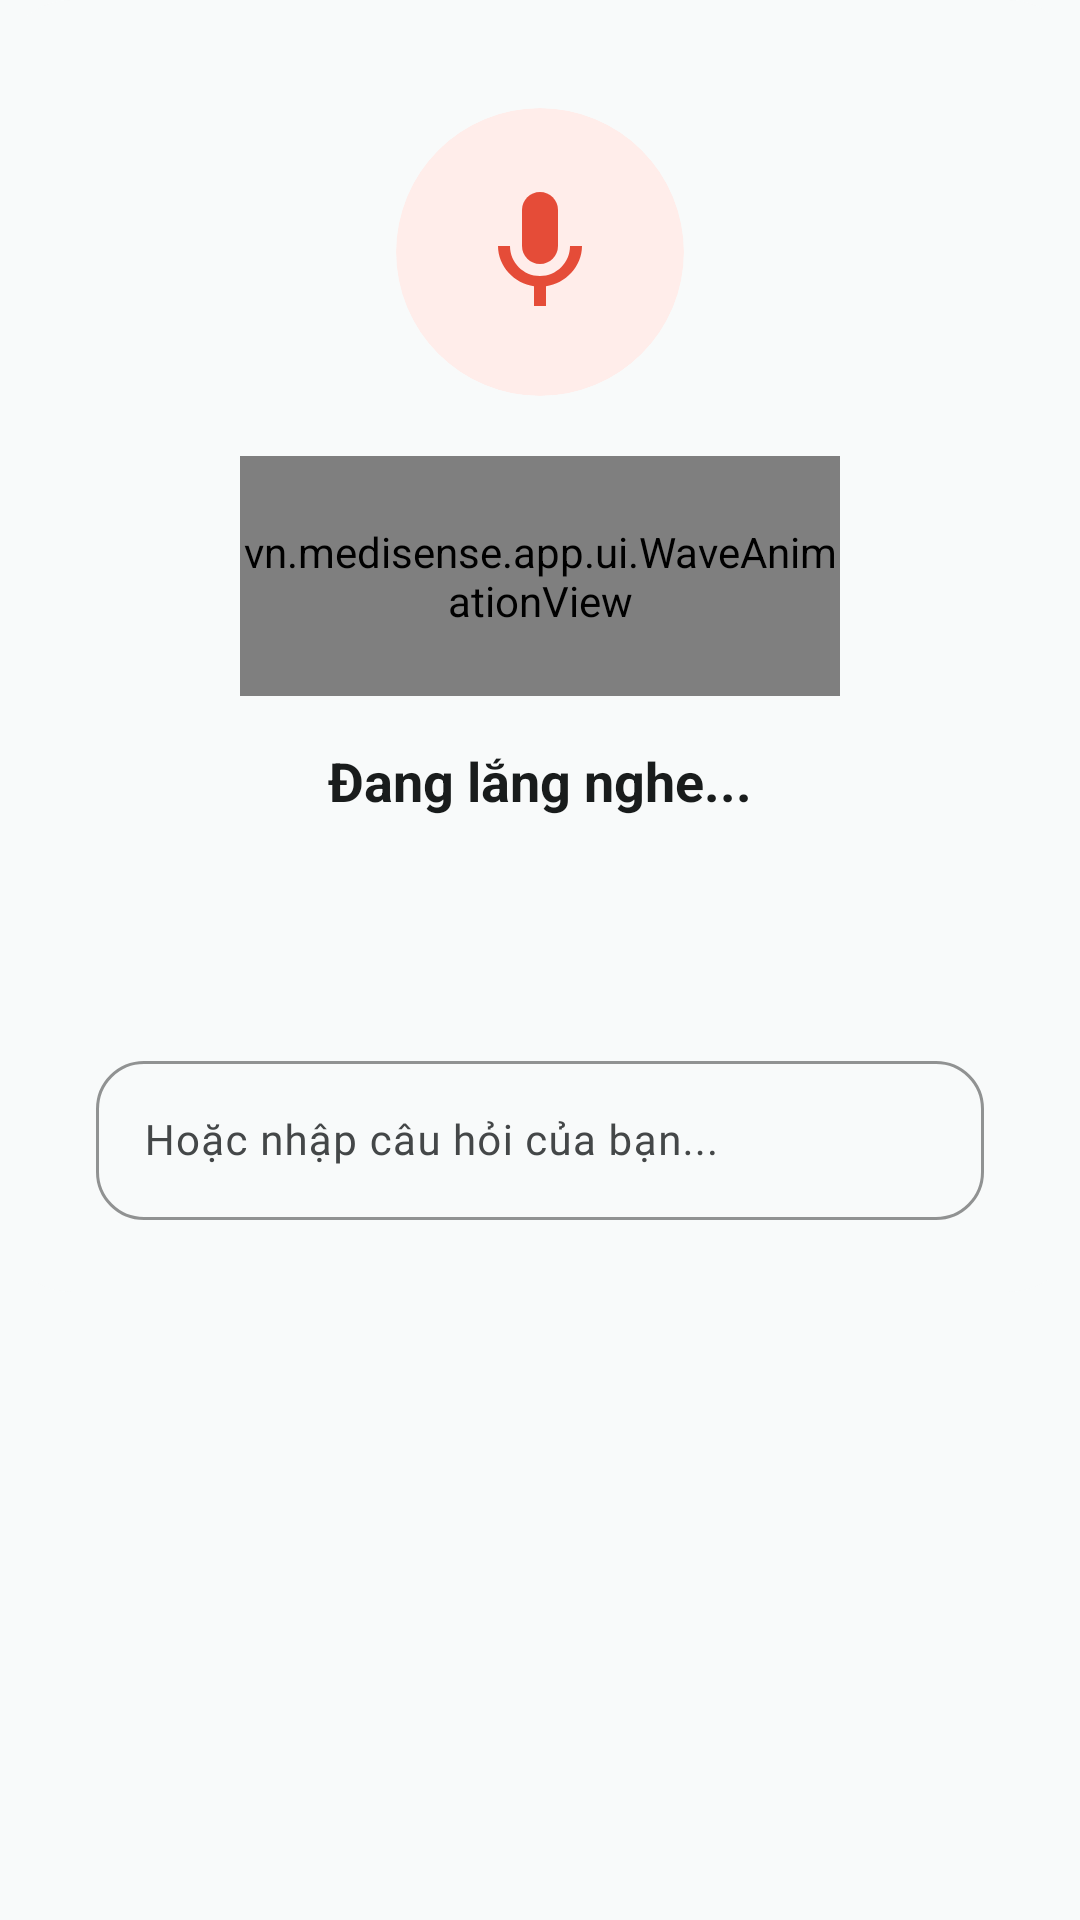

Named icons in this screenshot (1080px×1920px) and their bounding boxes, rect(x1, y1, x2, y2):
Microphone Icon: rect(498, 192, 582, 306)
